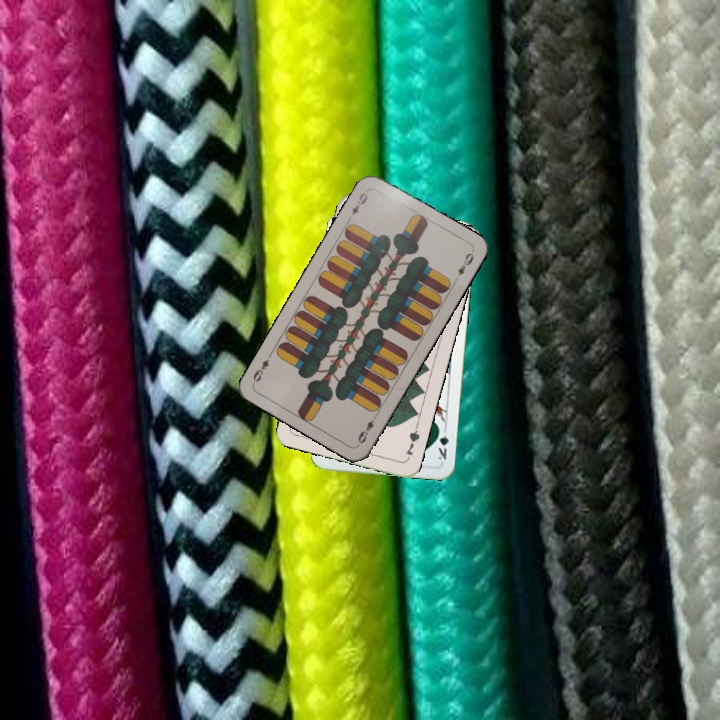E9: (354, 411, 379, 448), (345, 188, 370, 223)
G7: (401, 422, 422, 462)
GK: (433, 423, 451, 462)
